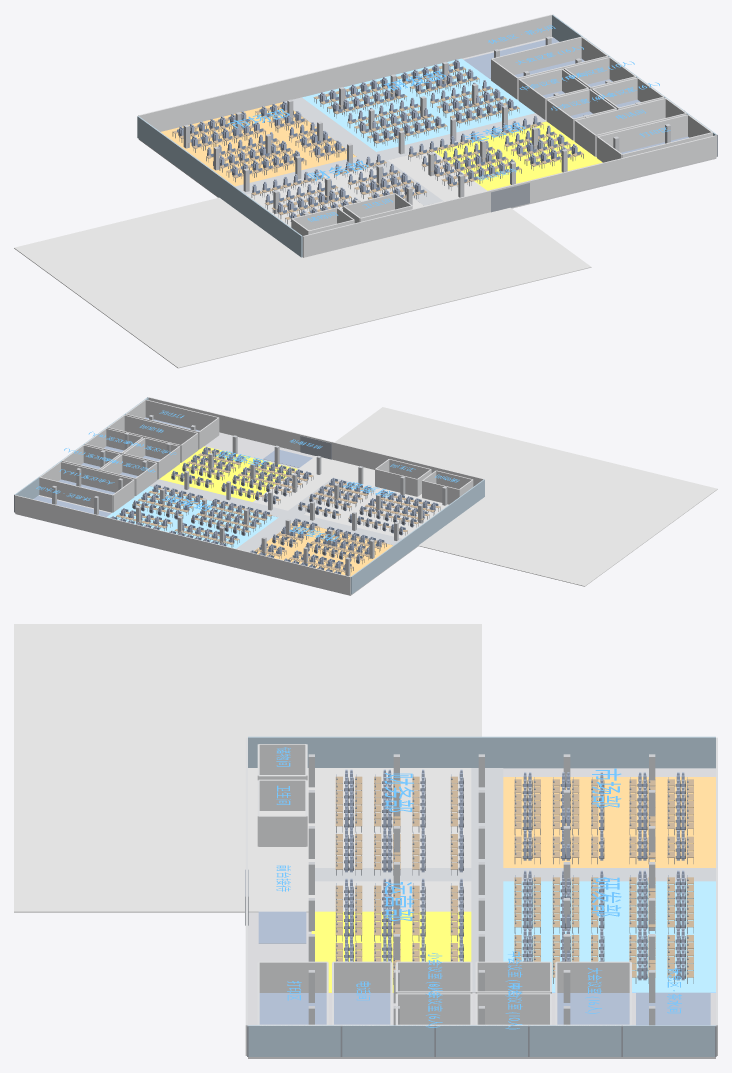
Rendered from scn_office-hq_blockout_v01.00_wip.glb.
3 renders of one model, top to bottom at view 1: azimuth 30°, elevation 25°; view 2: azimuth 150°, elevation 25°; view 3: azimuth 270°, elevation 25°, orthographic. The views are drawn at different scales.
Visible parts, largest first — view 1: ceiling, wall_north, wall_south, zonefloor_z_rnd, zonefloor_z_marketing, wall_west, zonefloor_z_ops, corridor_h, corridor_v, part_f_meeting_l_n, part_f_phone_n, part_f_print_n (+13 smaller); view 2: ceiling, wall_north, wall_south, zonefloor_z_rnd, wall_west, zonefloor_z_ops, zonefloor_z_marketing, slab_floor, corridor_h, part_f_meeting_l_n, part_f_print_s, part_f_phone_s (+19 smaller); view 3: ceiling, wall_east, wall_west, zonefloor_z_marketing, zonefloor_z_rnd, slab_floor, zonefloor_z_ops, corridor_h, corridor_v, zonefloor_f_break, part_f_meeting_s2_w, part_f_meeting_m2_w (+13 smaller).
Part boxes in pixels (x1,y1,x2,y2): ceiling: [14, 150, 591, 368]; wall_north: [138, 14, 551, 131]; wall_south: [302, 135, 716, 257]; zonefloor_z_rnd: [302, 58, 535, 151]; zonefloor_z_marketing: [161, 102, 356, 186]; wall_west: [137, 116, 302, 257]; zonefloor_z_ops: [434, 121, 602, 190]; corridor_h: [235, 113, 546, 194]; corridor_v: [282, 97, 443, 205]; part_f_meeting_l_n: [491, 36, 581, 74]; part_f_phone_n: [575, 98, 665, 134]; part_f_print_n: [597, 114, 687, 152]; ceiling: [253, 407, 717, 586]; wall_north: [15, 495, 350, 594]; wall_south: [148, 397, 483, 486]; zonefloor_z_rnd: [107, 486, 278, 548]; wall_west: [350, 479, 484, 594]; zonefloor_z_ops: [159, 446, 297, 501]; zonefloor_z_marketing: [254, 522, 392, 576]; slab_floor: [15, 432, 418, 595]; corridor_h: [150, 479, 402, 545]; part_f_meeting_l_n: [39, 477, 112, 512]; part_f_print_s: [145, 399, 218, 430]; part_f_phone_s: [124, 415, 197, 444]; ceiling: [14, 624, 481, 912]; wall_east: [248, 1025, 715, 1056]; wall_west: [248, 736, 715, 768]; zonefloor_z_marketing: [503, 777, 715, 867]; zonefloor_z_rnd: [503, 881, 715, 992]; slab_floor: [248, 768, 715, 1058]; zonefloor_z_ops: [311, 911, 471, 992]; corridor_h: [471, 768, 503, 992]; corridor_v: [315, 868, 715, 881]; zonefloor_f_break: [636, 992, 710, 1025]; part_f_meeting_s2_w: [397, 993, 471, 1024]; part_f_meeting_m2_w: [476, 993, 550, 1024].
Bounding box in the file's own units: 97.6 × 4.2 × 66.2.
